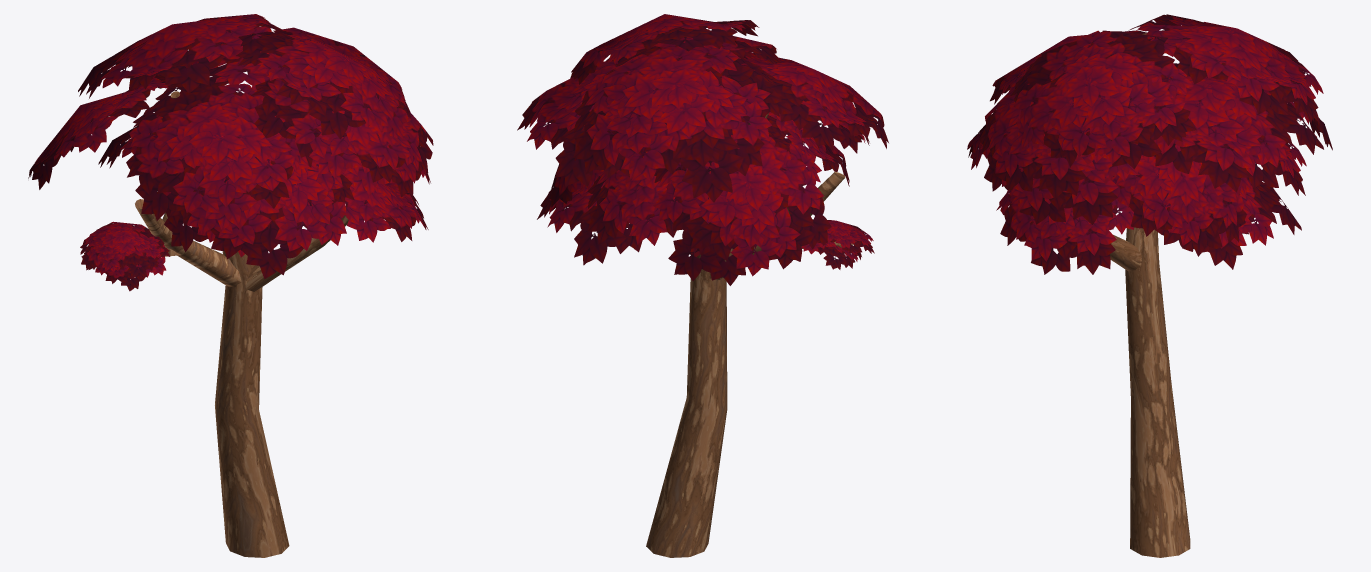
Rendered from low_poly_stylized_tree.glb.
3 renders of one model, left to right at view 1: azimuth 30°, elevation 25°; view 2: azimuth 150°, elevation 25°; view 3: azimuth 270°, elevation 25°, orthographic.
Parts seen in each view (by area): view 1: Tree_1; view 2: Tree_1; view 3: Tree_1.
Part boxes in pixels (x1,y1,x2,y2): Tree_1: [28, 14, 433, 557]; Tree_1: [517, 14, 888, 557]; Tree_1: [967, 14, 1332, 557].
Size of the model in its own units: 4.14 by 5.54 by 4.13.
Materials: 2 (2 with a texture image).
